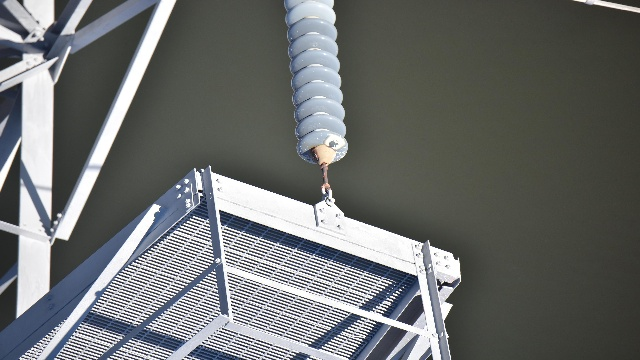insulator_unspecified: (282, 0, 349, 165)
pollution_flashover_local: (324, 131, 346, 151)
